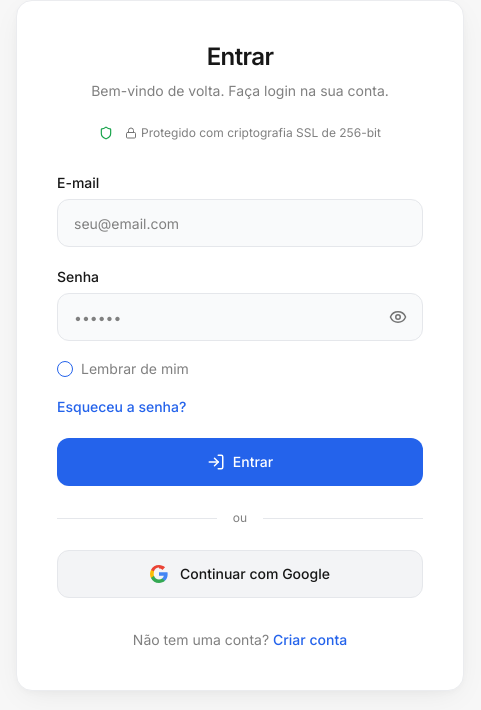
Test: LoginForm › desabilita botão durante submissão
Type "teste@email.com" into the field labelled "E-mail" at (240, 223), box [57, 199, 423, 247]
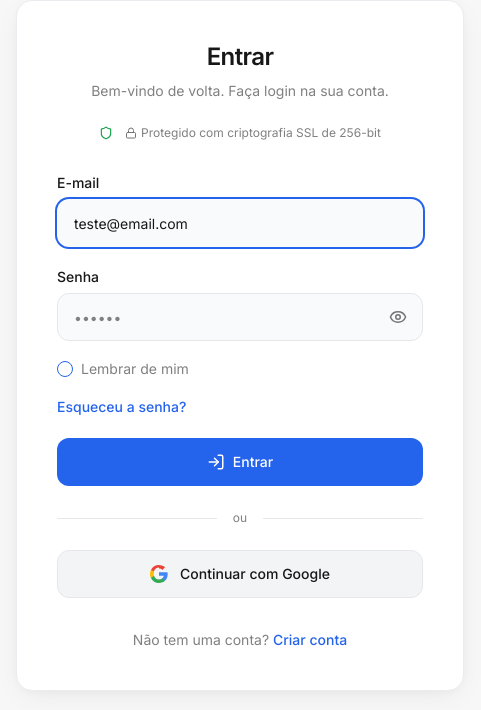
Type "TestPassword123!" into the password field labelled "Senha" at (240, 317), box [57, 293, 423, 341]
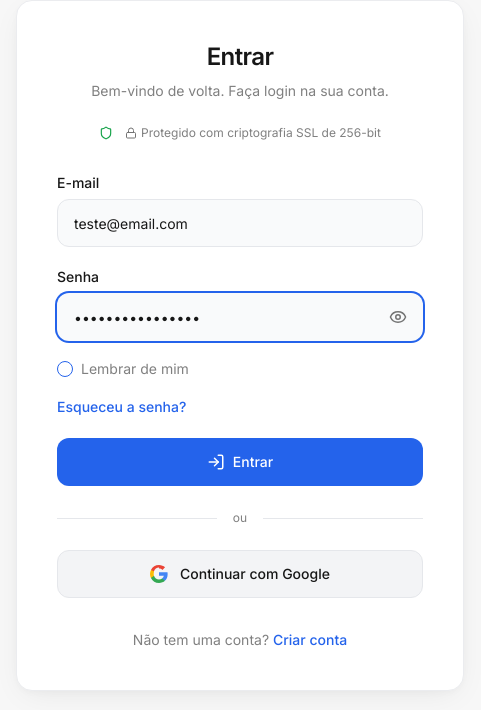
Click the button "Entrar" at (240, 462), box [57, 438, 423, 486]
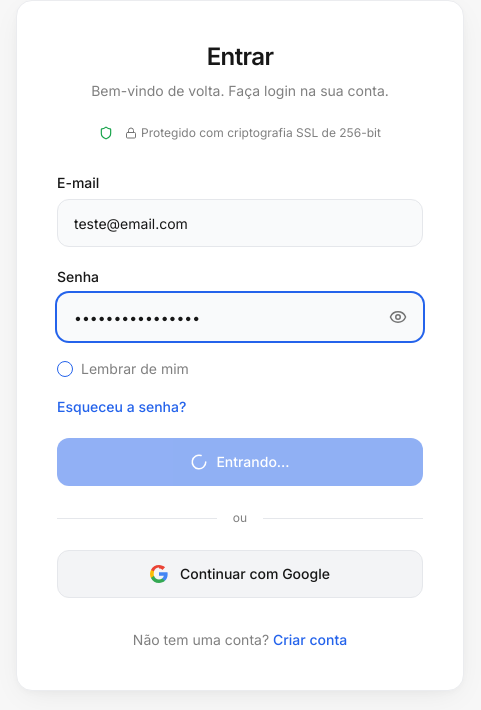
Result: the button named "entrar" is disabled at [57, 438, 423, 486]
